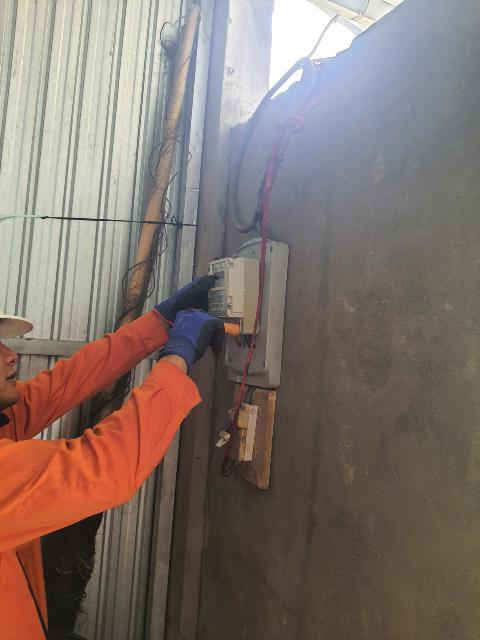gloves: (135, 303, 262, 369), (138, 258, 246, 329)
